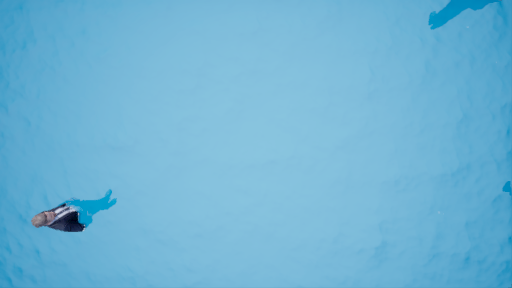person: (24, 189, 127, 241)
